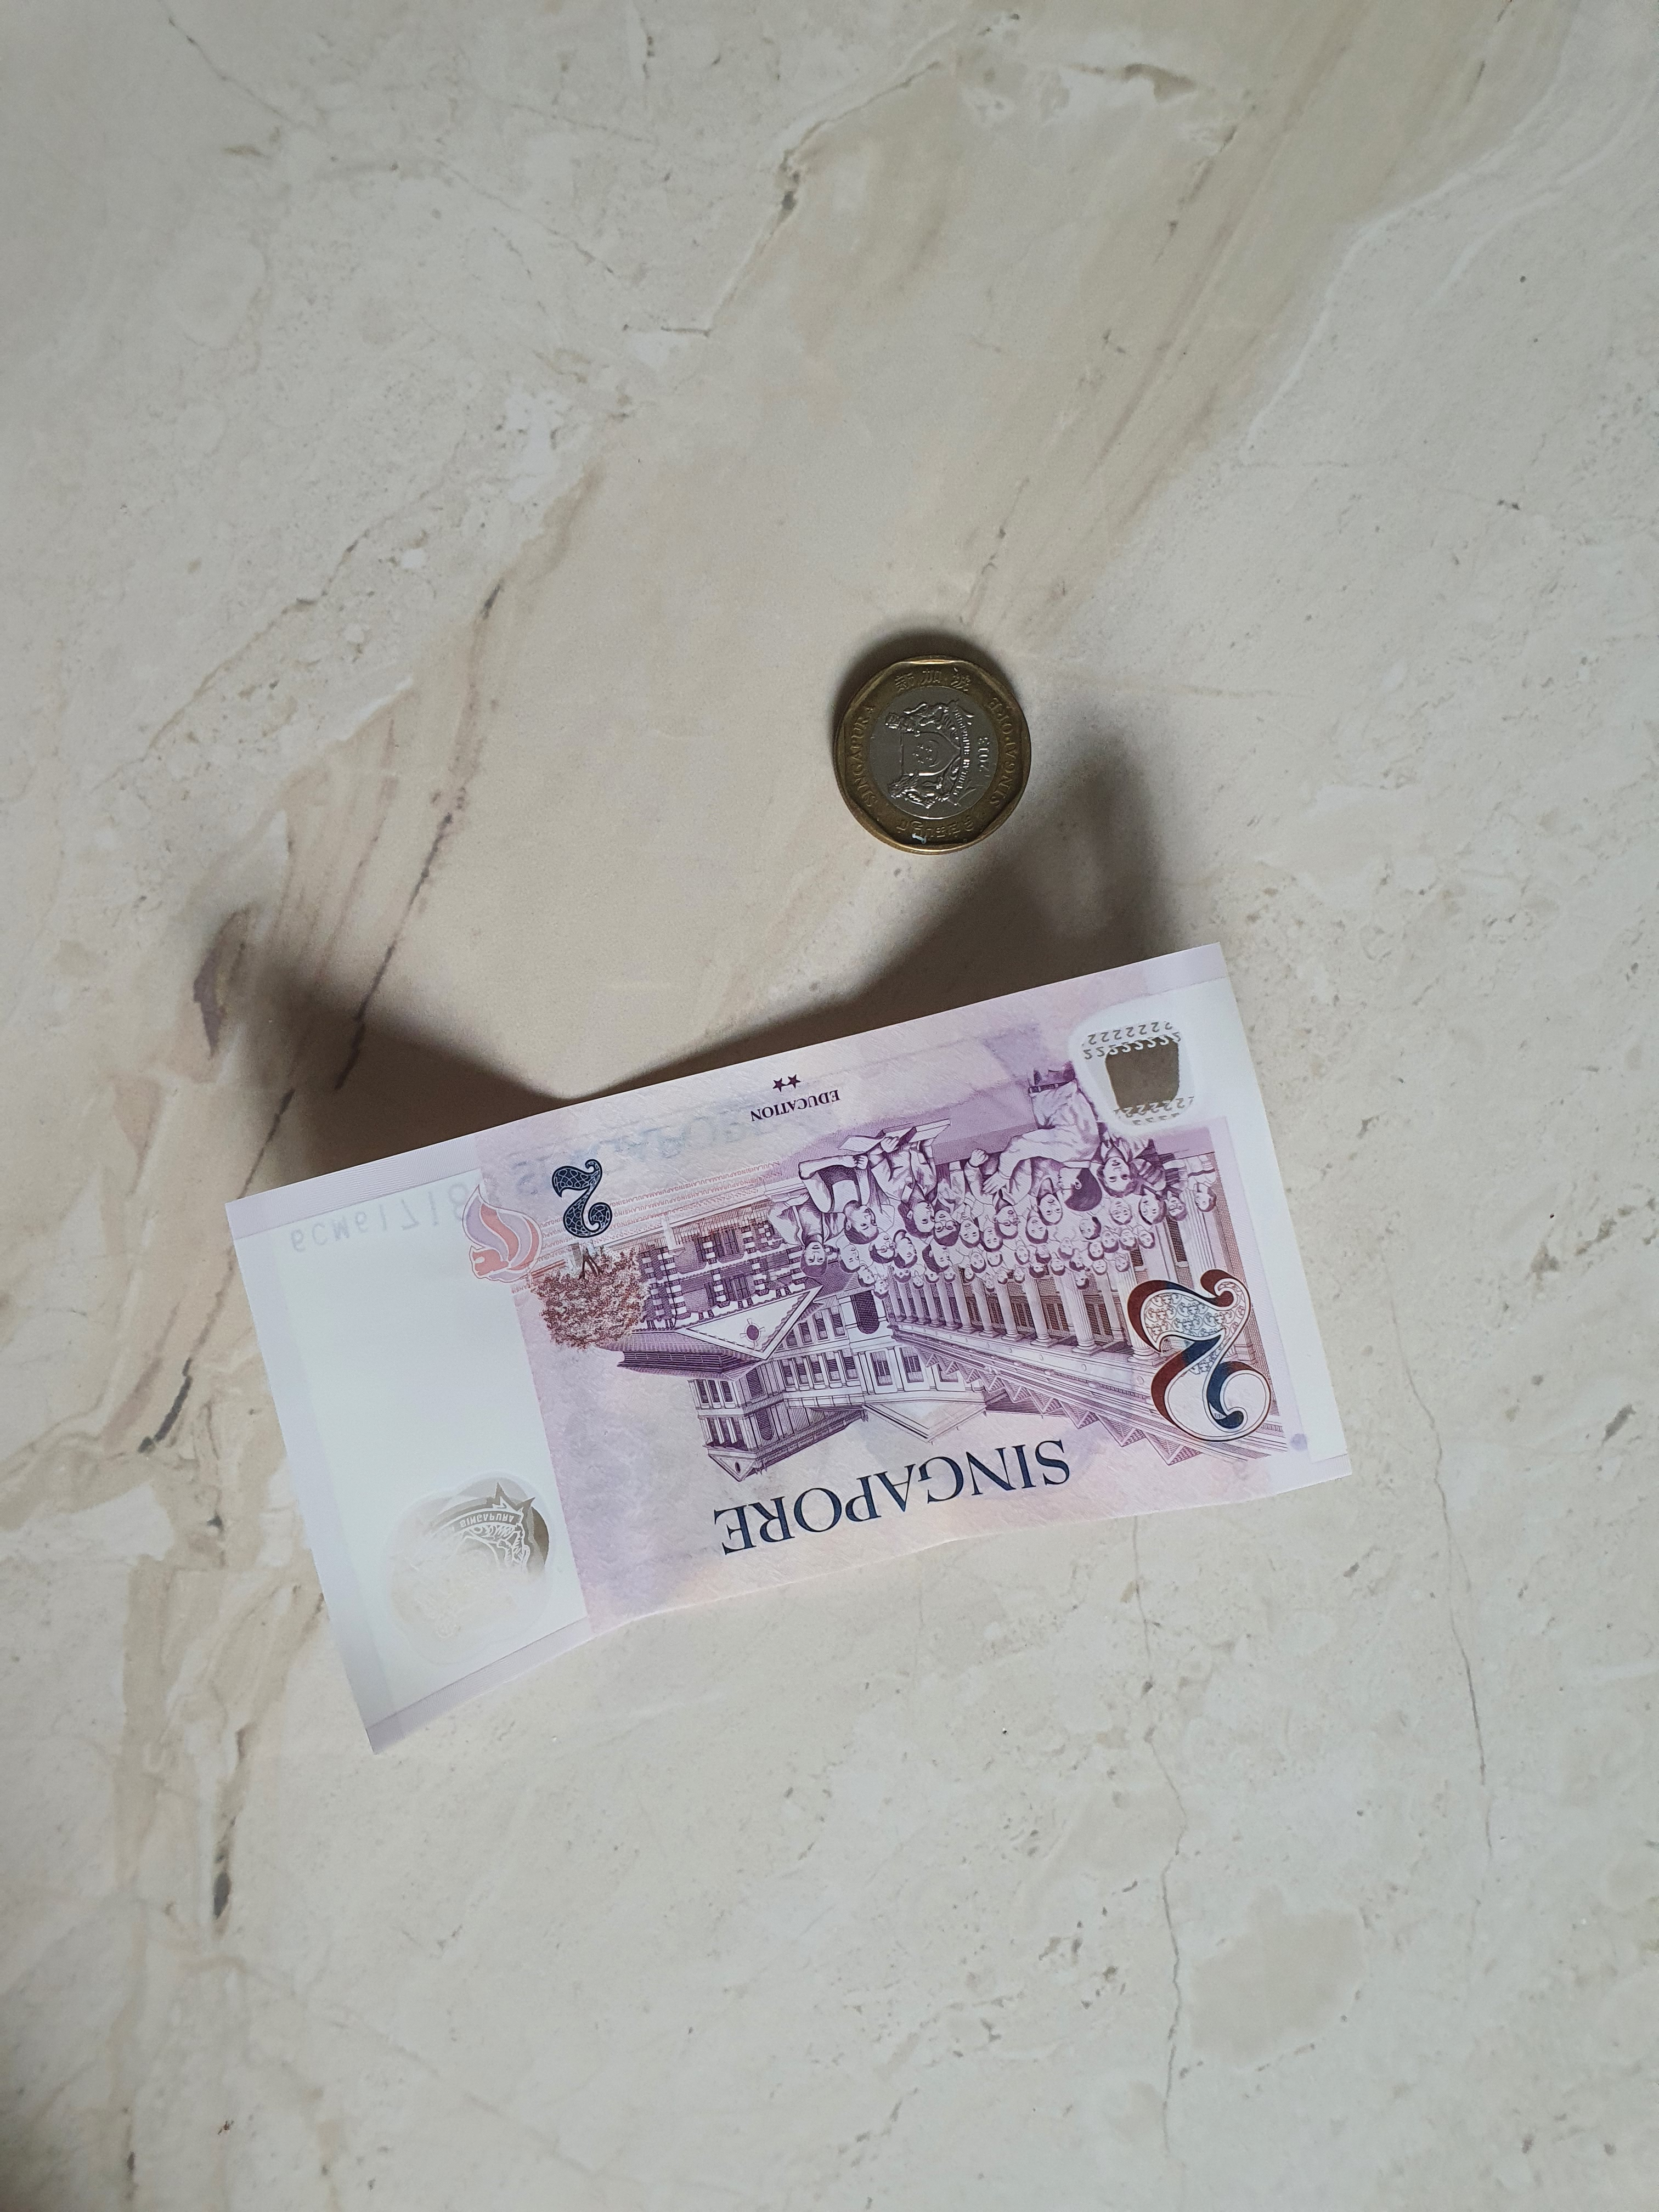$1: (831, 655, 1032, 855)
$2: (227, 941, 1356, 1752)
